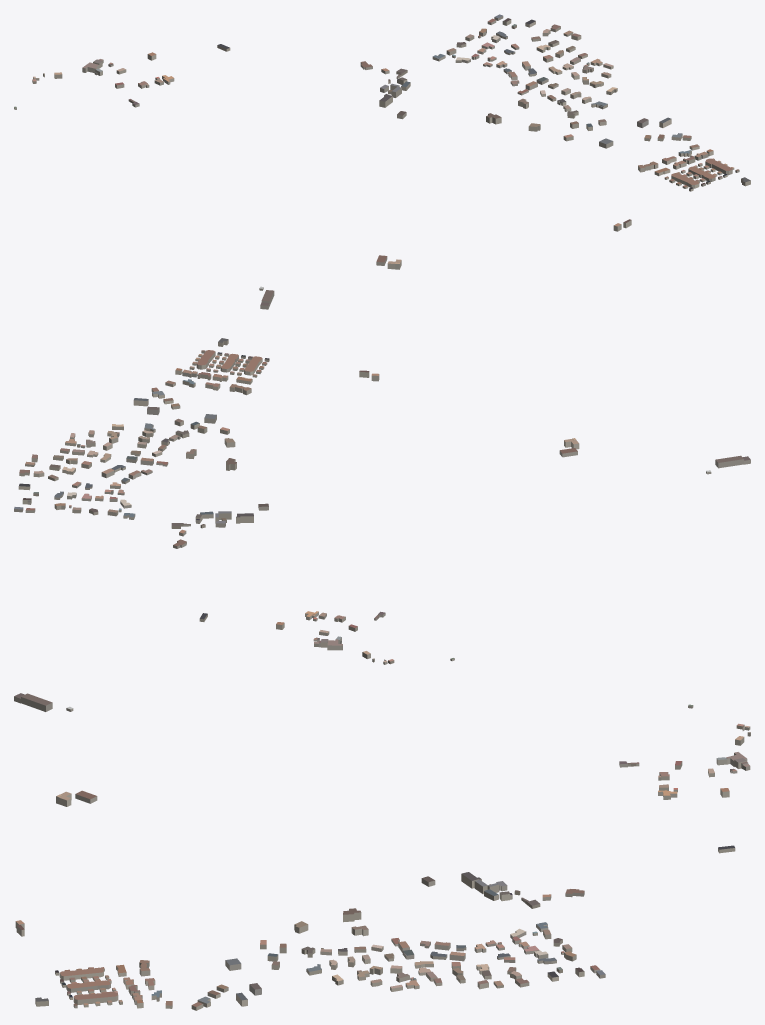
The picture shows the model from 3 angles, top to bottom: view 1: azimuth 30°, elevation 25°; view 2: azimuth 150°, elevation 25°; view 3: azimuth 270°, elevation 25°; orthographic projection. The views are drawn at different scales.
Visible parts, largest first — view 1: tuile; view 2: tuile; view 3: tuile.
Boxes of the visible parts, x1,y1,x2,y2 form: tuile: (14,14,750,309); tuile: (14,338,750,664); tuile: (14,693,750,1010).
Size of the model in its own units: 1002 by 52.15 by 1005.
